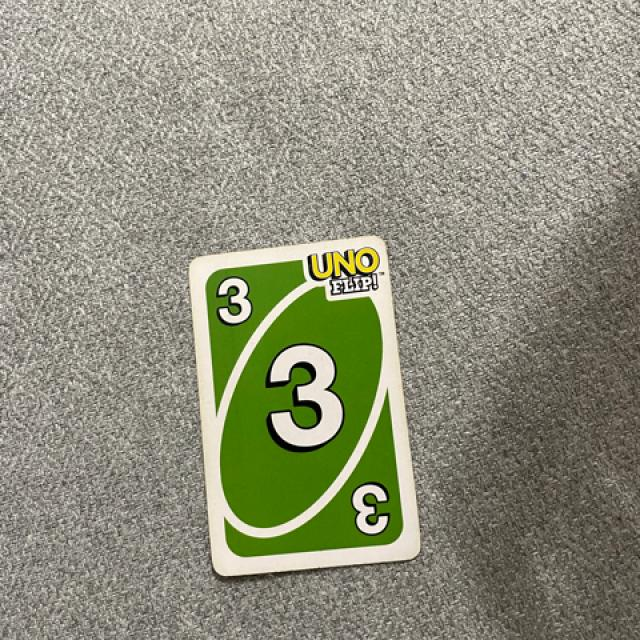lgreen-3: (204, 264, 278, 336)
